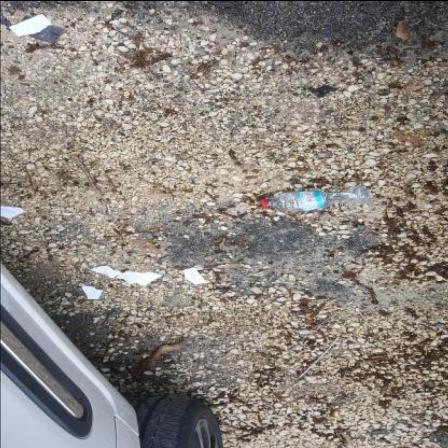Bottle: (261, 186, 371, 212)
Bottle cap: (262, 200, 268, 210)
Paper: (91, 267, 163, 287), (182, 268, 208, 286), (83, 286, 105, 300), (2, 206, 26, 218)
Straw: (299, 337, 341, 379)
Unlabeled litter: (9, 15, 54, 38)
